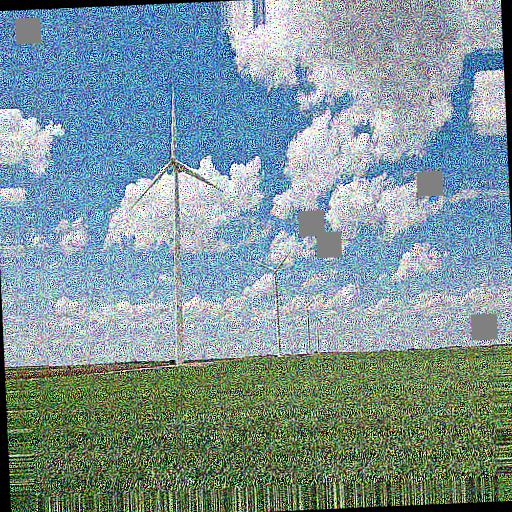wind turbine: (129, 86, 224, 364), (260, 250, 292, 360)
